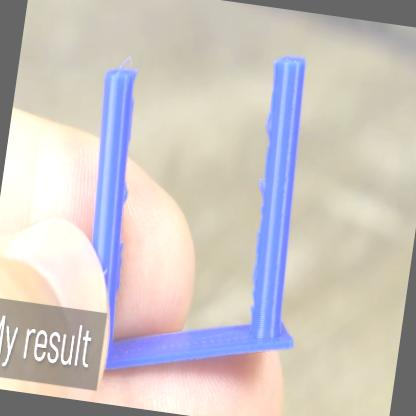fail: (263, 107, 278, 141), (256, 171, 270, 200)
